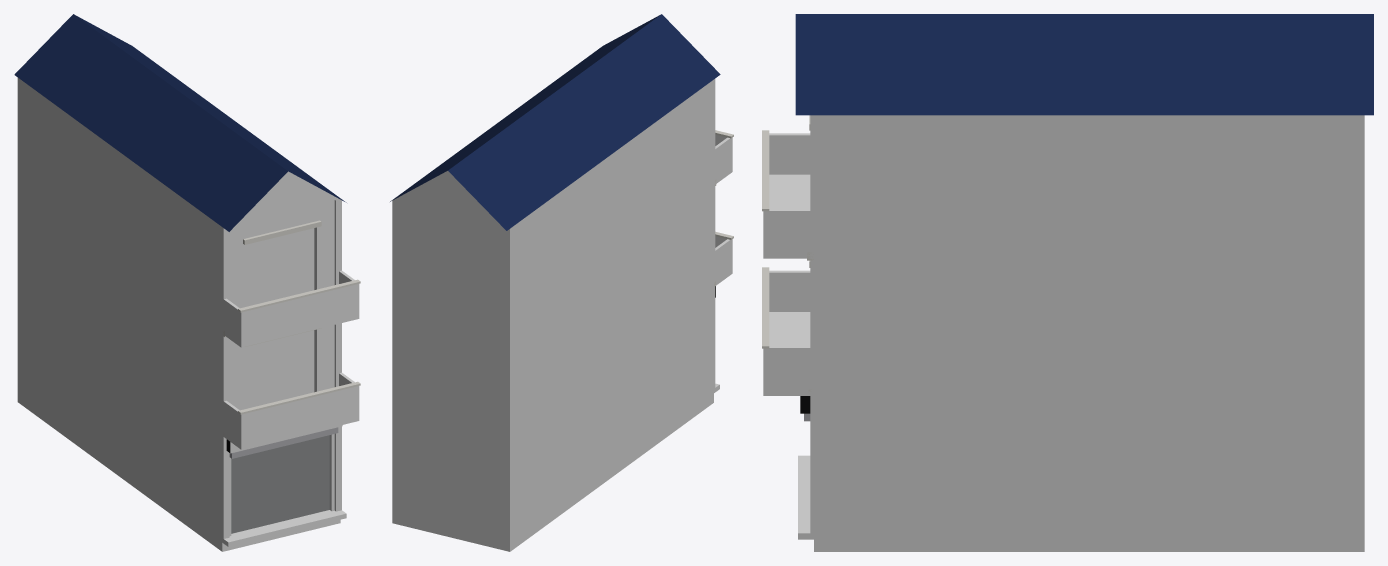
3 renders of one model, left to right at view 1: azimuth 30°, elevation 25°; view 2: azimuth 150°, elevation 25°; view 3: azimuth 270°, elevation 25°, orthographic. The views are drawn at different scales.
Visible parts, largest first — view 1: TH_D12_C_09_LOD0; view 2: TH_D12_C_09_LOD0; view 3: TH_D12_C_09_LOD0.
Part boxes in pixels (box(x1,y1,x2,y2)): TH_D12_C_09_LOD0: box(14, 14, 360, 551); TH_D12_C_09_LOD0: box(390, 14, 733, 551); TH_D12_C_09_LOD0: box(762, 14, 1373, 551).
Size of what is drawn, in the model's own units: 4.06 by 12 by 13.33.
